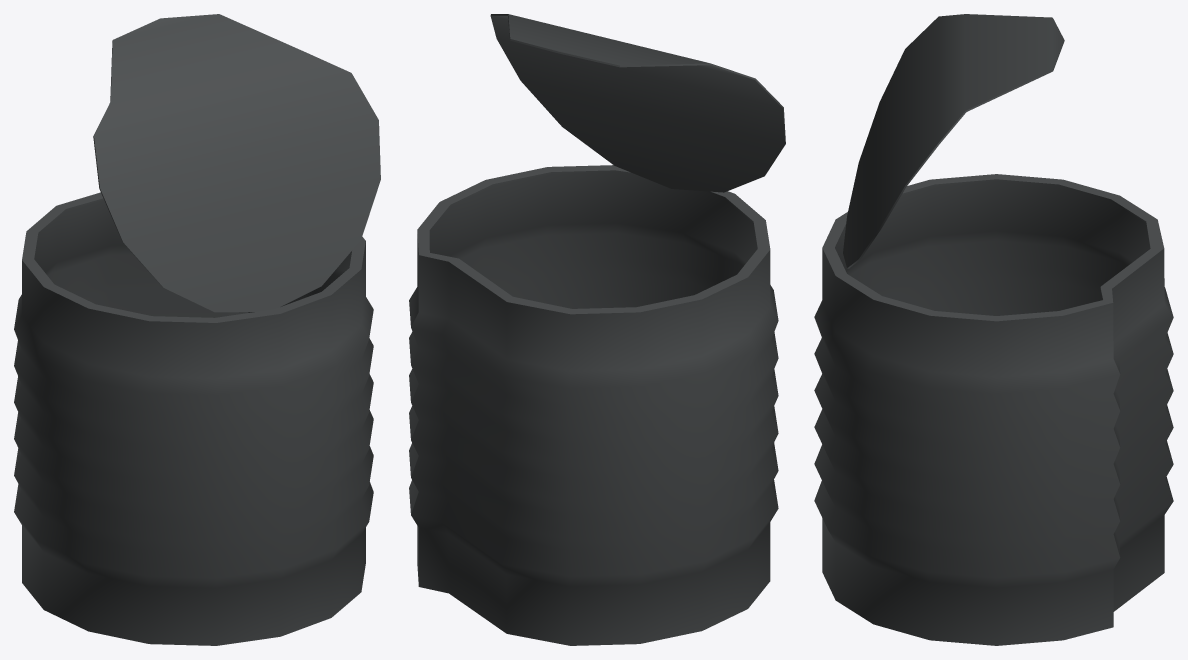
The model's file is Lata_03.fbx.
3 views of the same model, side by side, from view 1: azimuth 30°, elevation 25°; view 2: azimuth 150°, elevation 25°; view 3: azimuth 270°, elevation 25° (orthographic). The views are drawn at different scales.
Parts seen in each view (by area): view 1: Lata_03; view 2: Lata_03; view 3: Lata_03.
Boxes of the visible parts, bbox=[...] form: Lata_03: bbox=[14, 14, 380, 645]; Lata_03: bbox=[409, 14, 785, 645]; Lata_03: bbox=[814, 14, 1173, 645].
Size of the model in its own units: 29.05 by 46.84 by 28.62.
